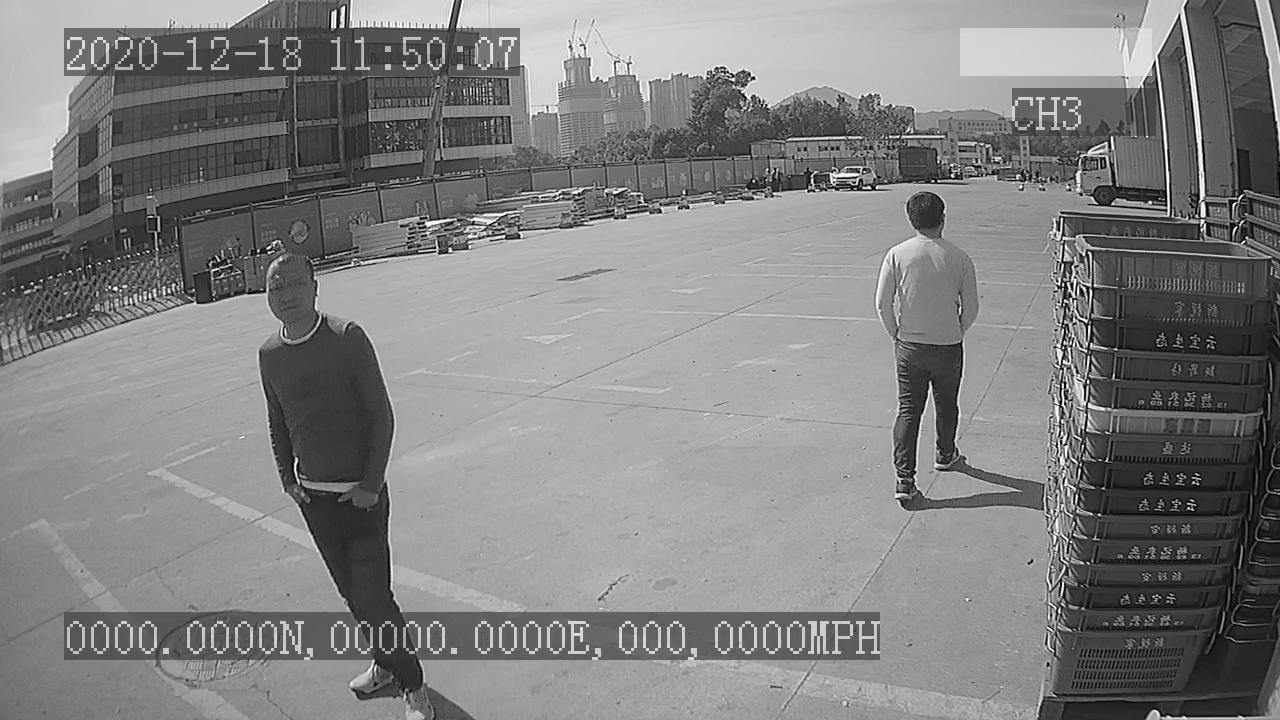person: (870, 190, 983, 510)
